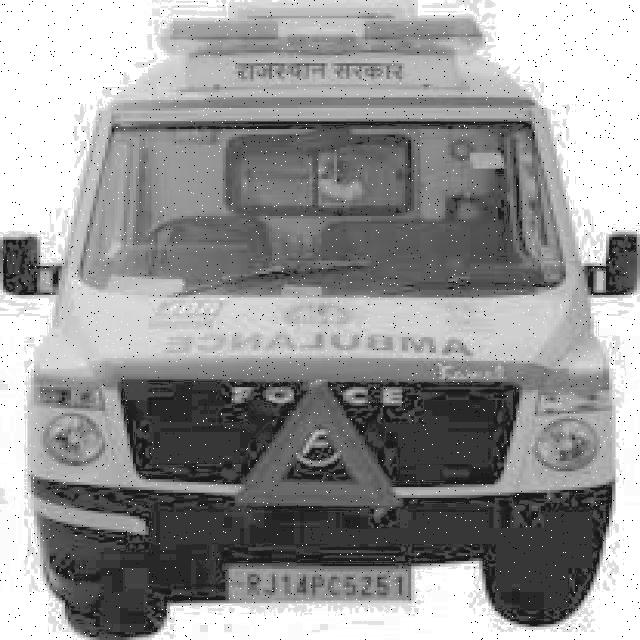LCV: (0, 19, 639, 603)
